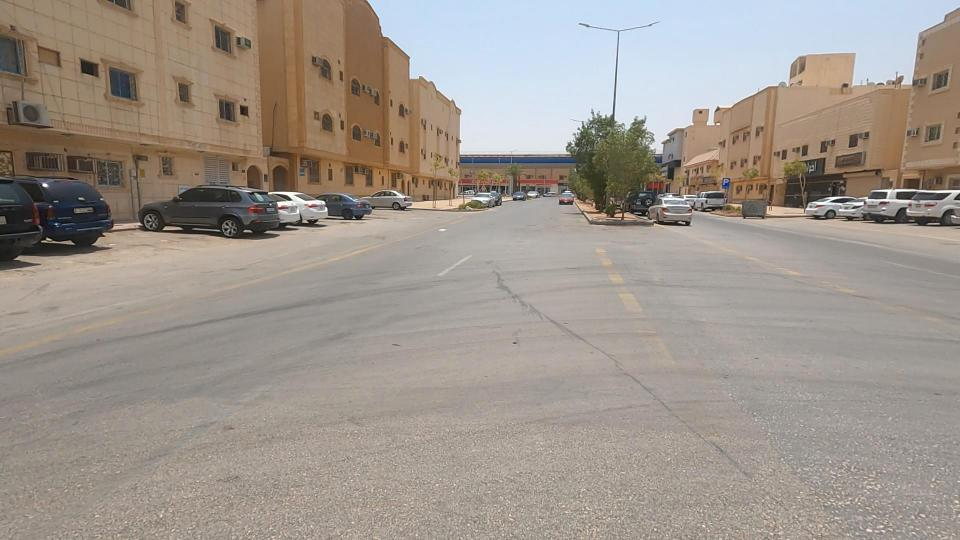GARBAGE: (408, 199, 465, 255)
